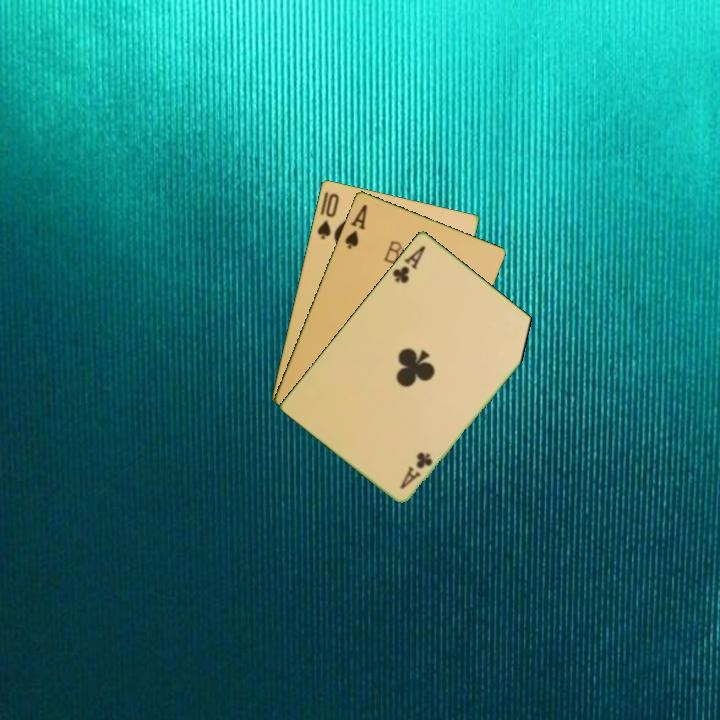10s: (313, 189, 342, 242)
Ac: (396, 448, 436, 492), (389, 241, 428, 286)
As: (341, 200, 370, 252)
